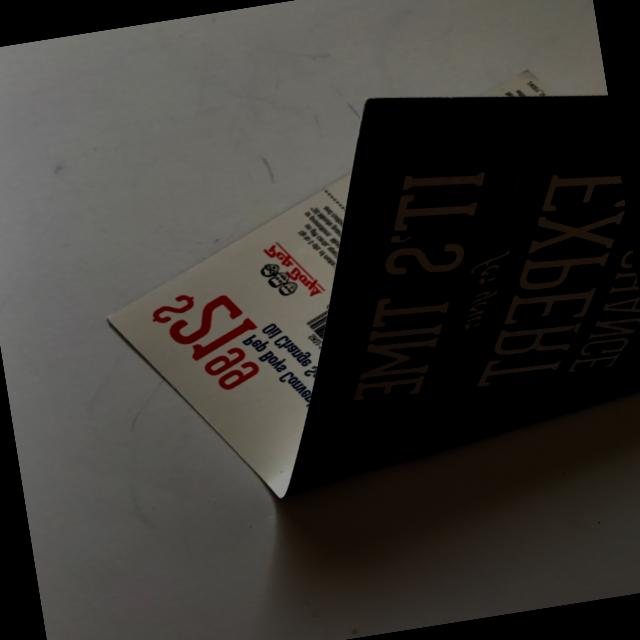Paper: (57, 39, 640, 559)
